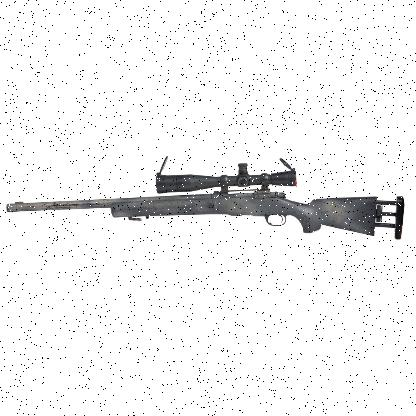gun: (6, 157, 404, 239)
